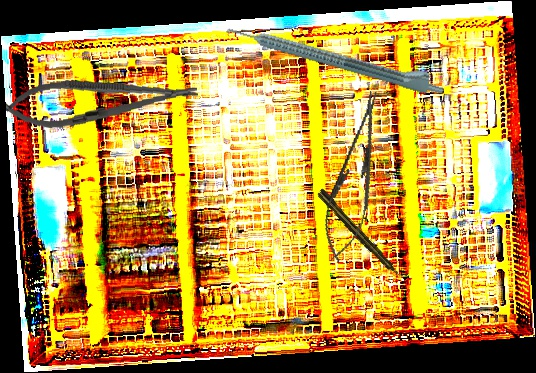Handpiece: (224, 13, 449, 99), (315, 187, 406, 283)
Needle Holder: (314, 85, 396, 267), (4, 68, 200, 134)
